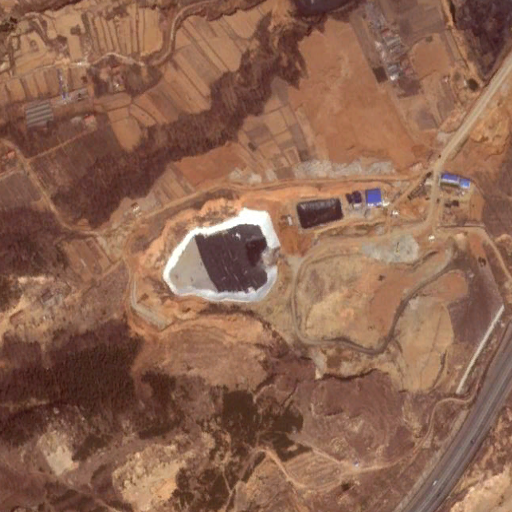lf: (166, 209, 282, 300)
